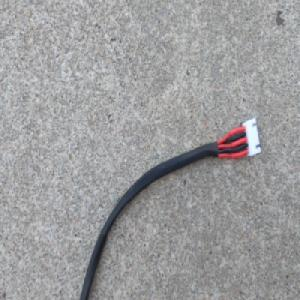Wire: (76, 115, 260, 300)
